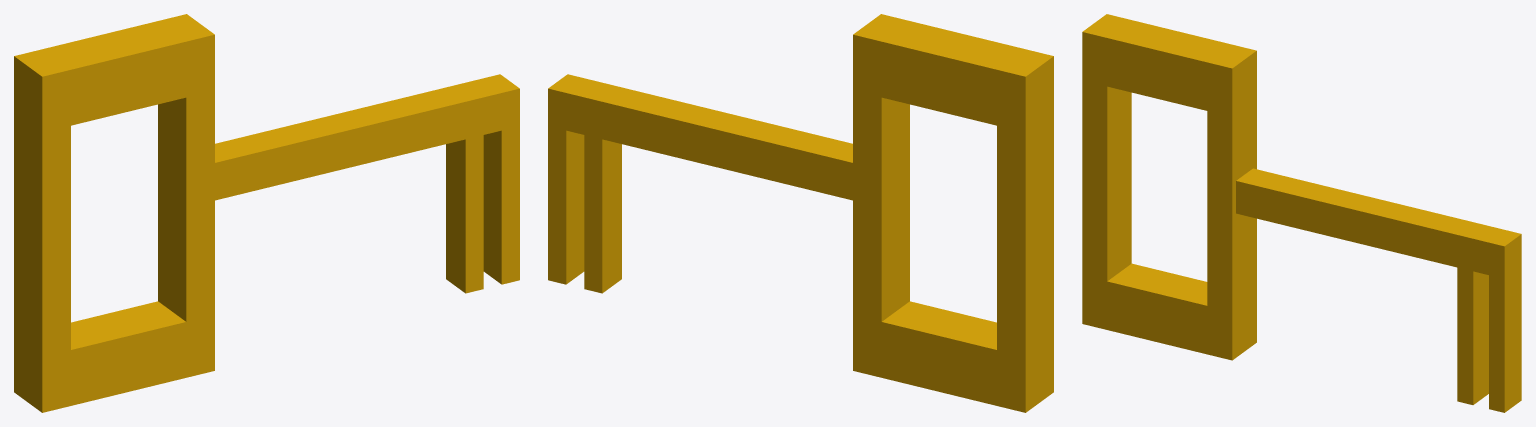
File: Gold key.fbx
3 renders of one model, left to right at view 1: azimuth 30°, elevation 25°; view 2: azimuth 150°, elevation 25°; view 3: azimuth 330°, elevation 25°, orthographic. The views are drawn at different scales.
Parts seen in each view (by area): view 1: Key; view 2: Key; view 3: Key.
Part boxes in pixels (box(x1,y1,x2,y2)): Key: box(14, 14, 519, 412); Key: box(548, 14, 1053, 412); Key: box(1082, 14, 1521, 412).
Size of the model in its own units: 30 by 20 by 3.04.
